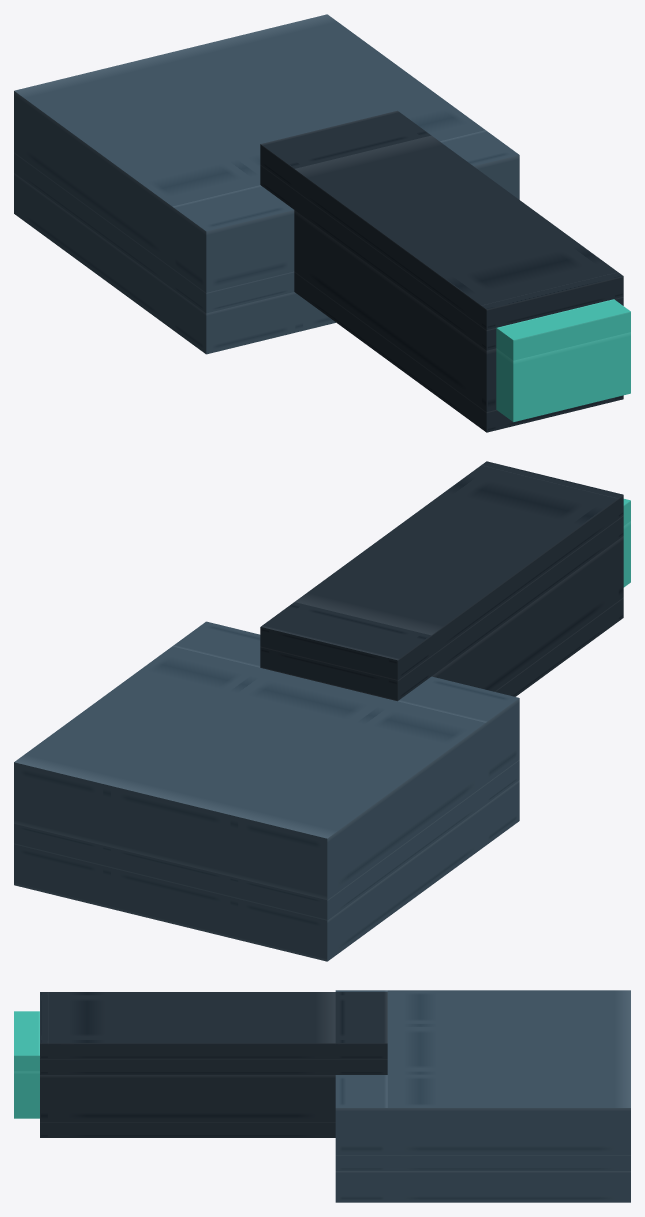
The model's file is sc_pickup_green_laser.obj.
3 renders of one model, top to bottom at view 1: azimuth 30°, elevation 25°; view 2: azimuth 150°, elevation 25°; view 3: azimuth 270°, elevation 25°, orthographic. The views are drawn at different scales.
Bounding box in the file's own units: 4.8 × 2.4 × 10.65.
Materials: 1 (1 with a texture image).
